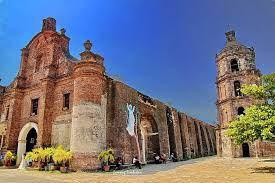santa_maria_church_santa_maria_ilocos_sur: (1, 15, 110, 172)
unfinished_paint: (51, 101, 111, 158)
